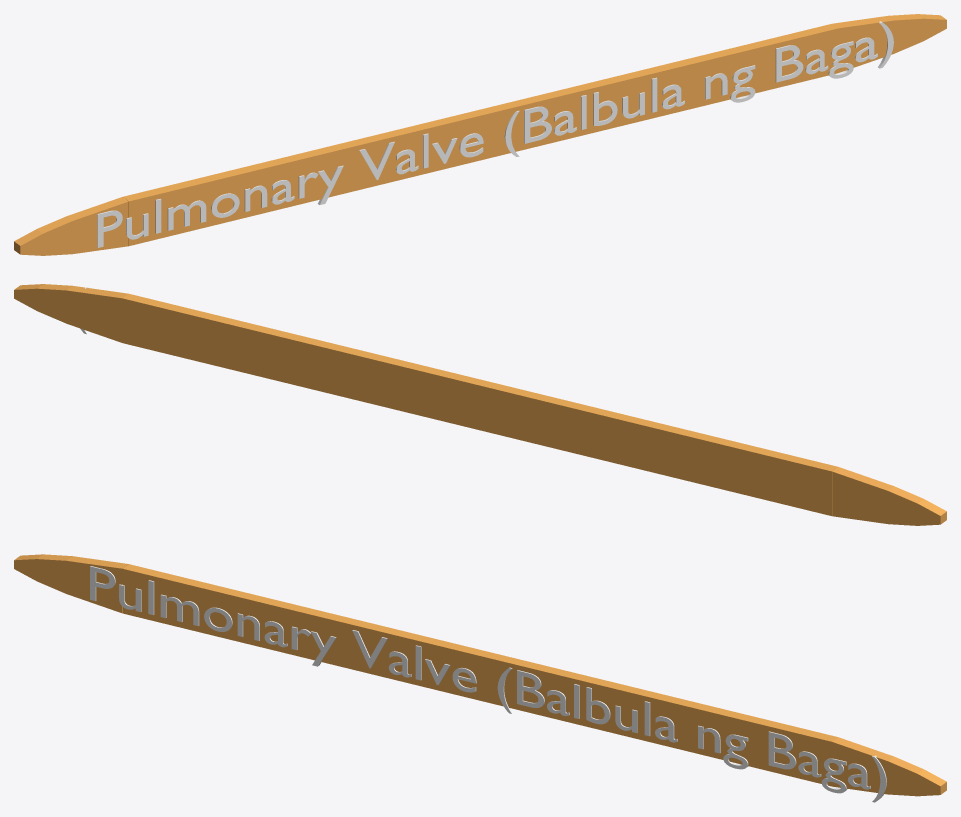
Rendered from txtPulmonaryValve.fbx.
3 views of the same model, one above another, from view 1: azimuth 30°, elevation 25°; view 2: azimuth 150°, elevation 25°; view 3: azimuth 330°, elevation 25° (orthographic).
Parts seen in each view (by area): view 1: TagContainer.112, Text.114; view 2: TagContainer.112; view 3: TagContainer.112, Text.114.
Part boxes in pixels (x1=…): TagContainer.112: x1=14, y1=14, x2=946, y2=255; Text.114: x1=97, y1=21, x2=893, y2=247; TagContainer.112: x1=14, y1=284, x2=946, y2=525; TagContainer.112: x1=14, y1=554, x2=946, y2=796; Text.114: x1=90, y1=566, x2=886, y2=802.
Bounding box in the file's own units: 895 × 45.81 × 11.78.
